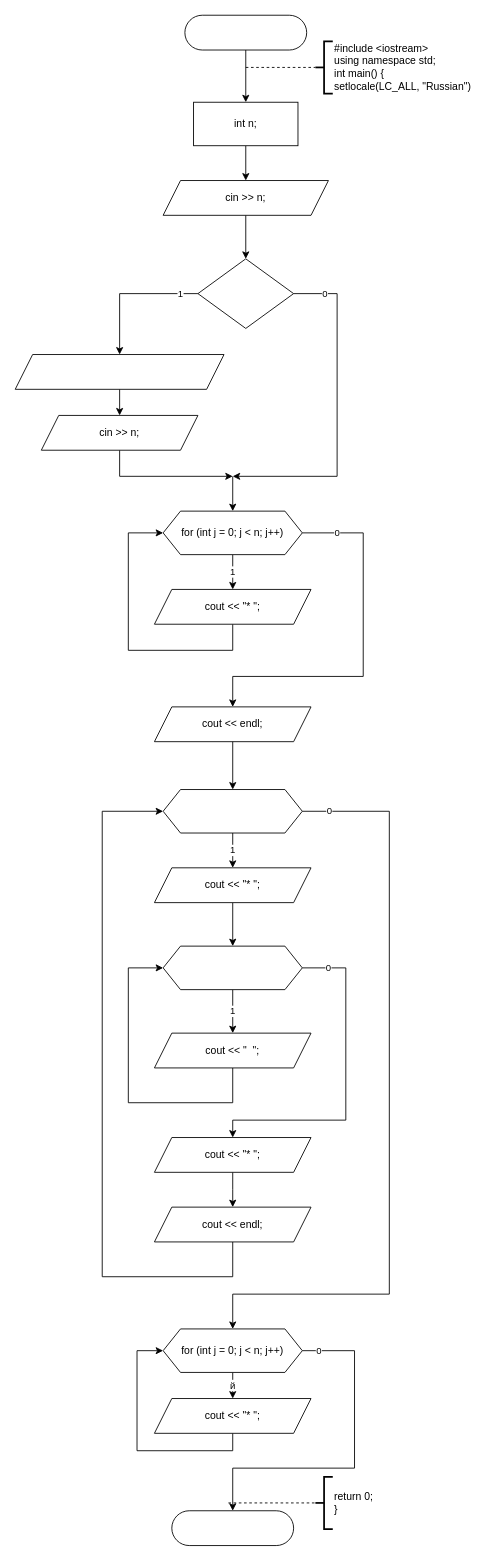
This 486x1561 diagram has some shape labels left out. The centre of each missing label's shape, as x and y in pixels:
cout << "Введите число большее 2";: [119,371]
for (int j = 0; j < (n - 2); j++): [232,811]
for (int k = 0; k < n - 2; k++): [232,967]
if (n < 2): [245,293]
Запуск: [245,32]
Конец: [232,1528]
